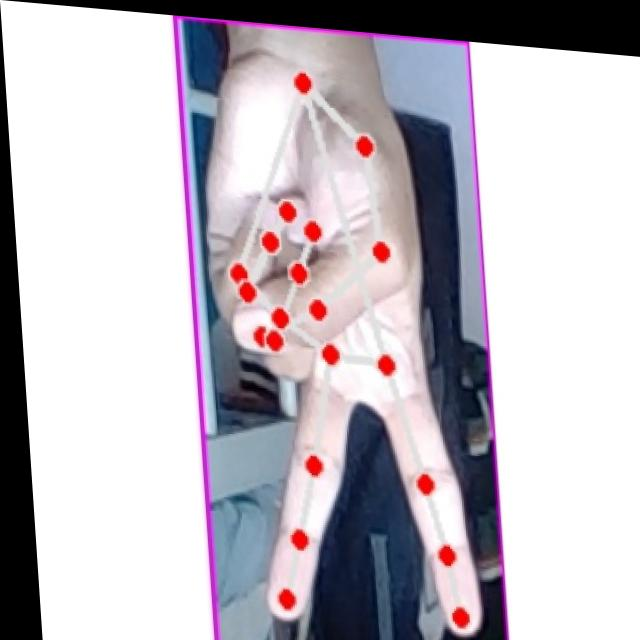V: (198, 55, 476, 637)
